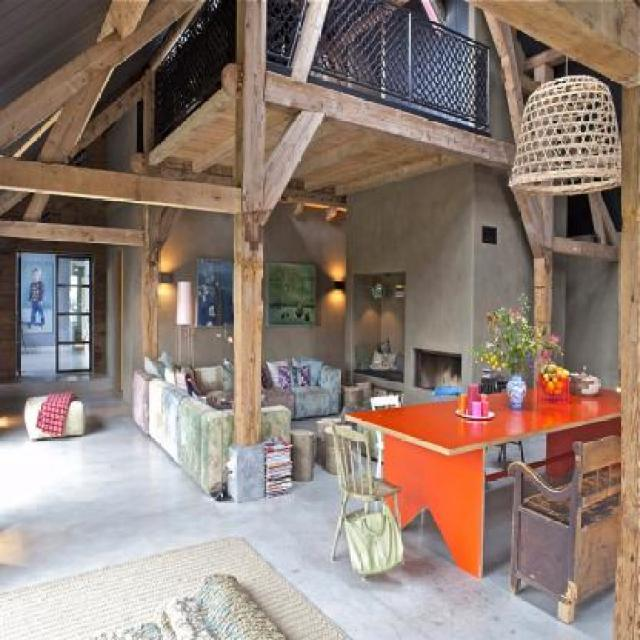Floor: (0, 416, 614, 639), (522, 435, 546, 463), (486, 446, 504, 475), (344, 497, 364, 515)
